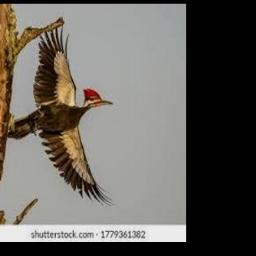Woodpecker: (5, 25, 116, 209)
